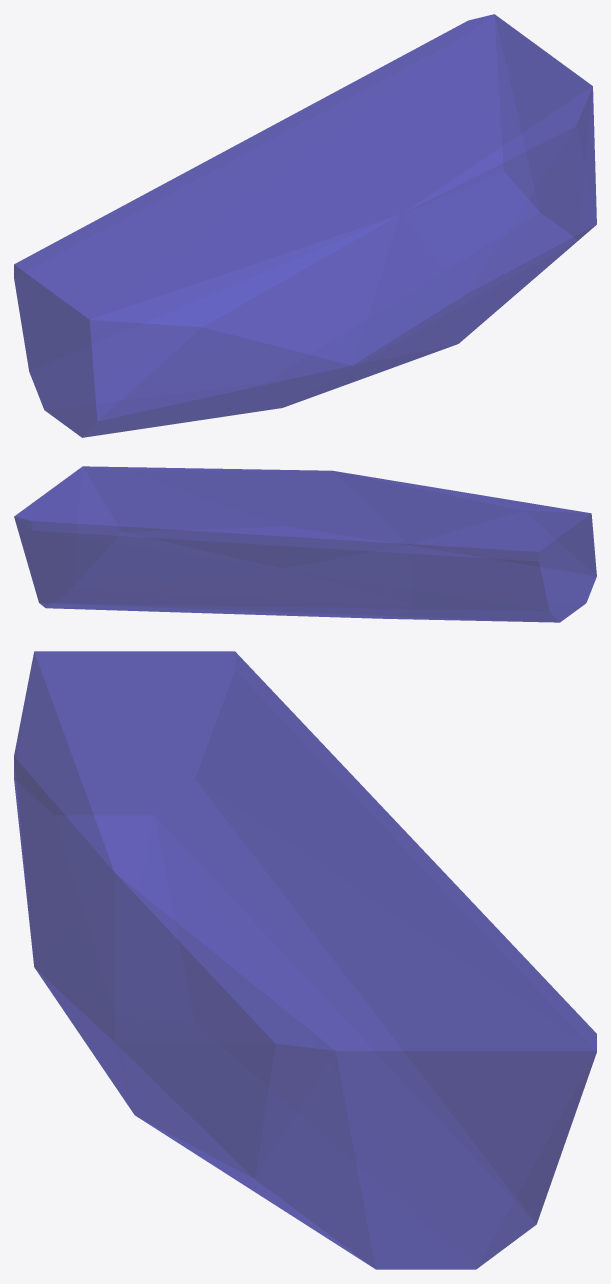
3 views of the same model, one above another, from view 1: azimuth 30°, elevation 25°; view 2: azimuth 150°, elevation 25°; view 3: azimuth 270°, elevation 25° (orthographic). The views are drawn at different scales.
Visible parts, largest first — view 1: Shape_IndexedFaceSet.013_Shape_IndexedFaceSet.7619; view 2: Shape_IndexedFaceSet.013_Shape_IndexedFaceSet.7619; view 3: Shape_IndexedFaceSet.013_Shape_IndexedFaceSet.7619.
Boxes of the visible parts, bbox=[...] form: Shape_IndexedFaceSet.013_Shape_IndexedFaceSet.7619: bbox=[14, 14, 596, 437]; Shape_IndexedFaceSet.013_Shape_IndexedFaceSet.7619: bbox=[14, 466, 596, 622]; Shape_IndexedFaceSet.013_Shape_IndexedFaceSet.7619: bbox=[14, 651, 596, 1269].
Size of the model in its own units: 0.0961 by 0.0245 by 0.0593.
